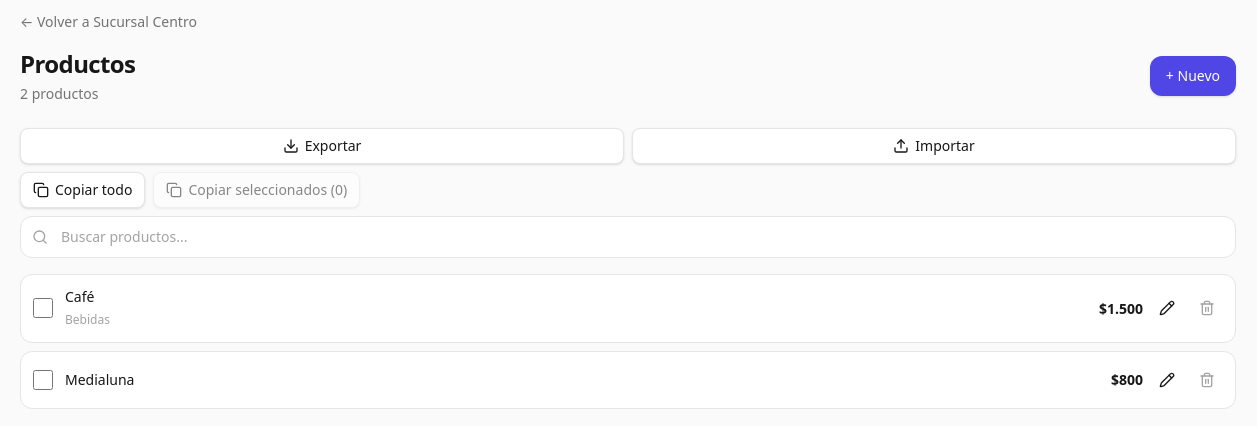
Scenario: ProductList › should filter products by category
Expected: the text "Café" is shown, [65,287,94,306]
Type "bebidas" into the field with placeholder "Buscar productos...".
click(628, 237); type("bebidas")  # box [20,216,1236,258]
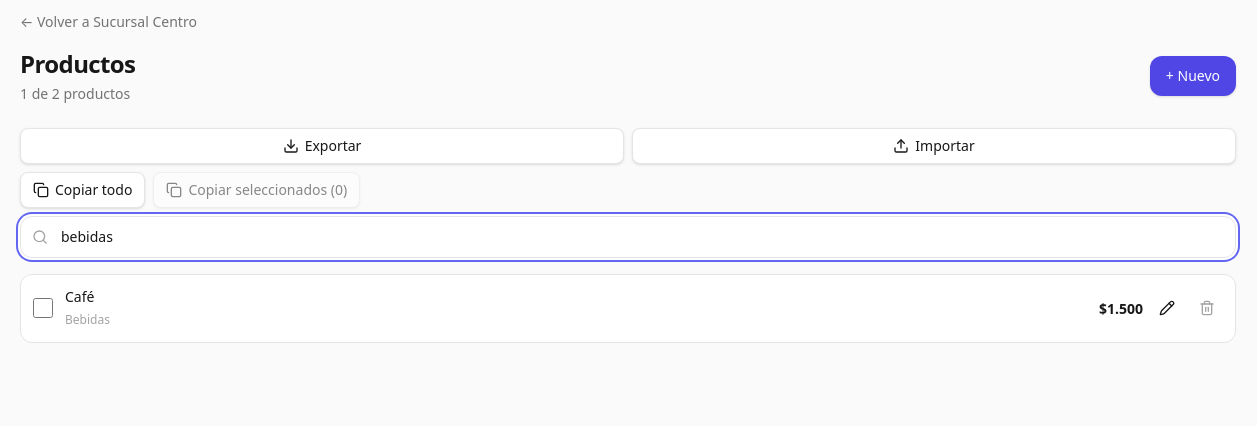
Expected: the text "Café" is shown, [65,287,94,306]
Expected: the text "Medialuna" is gone
Expected: the text "1 de 2 productos" is shown, [20,84,136,104]
